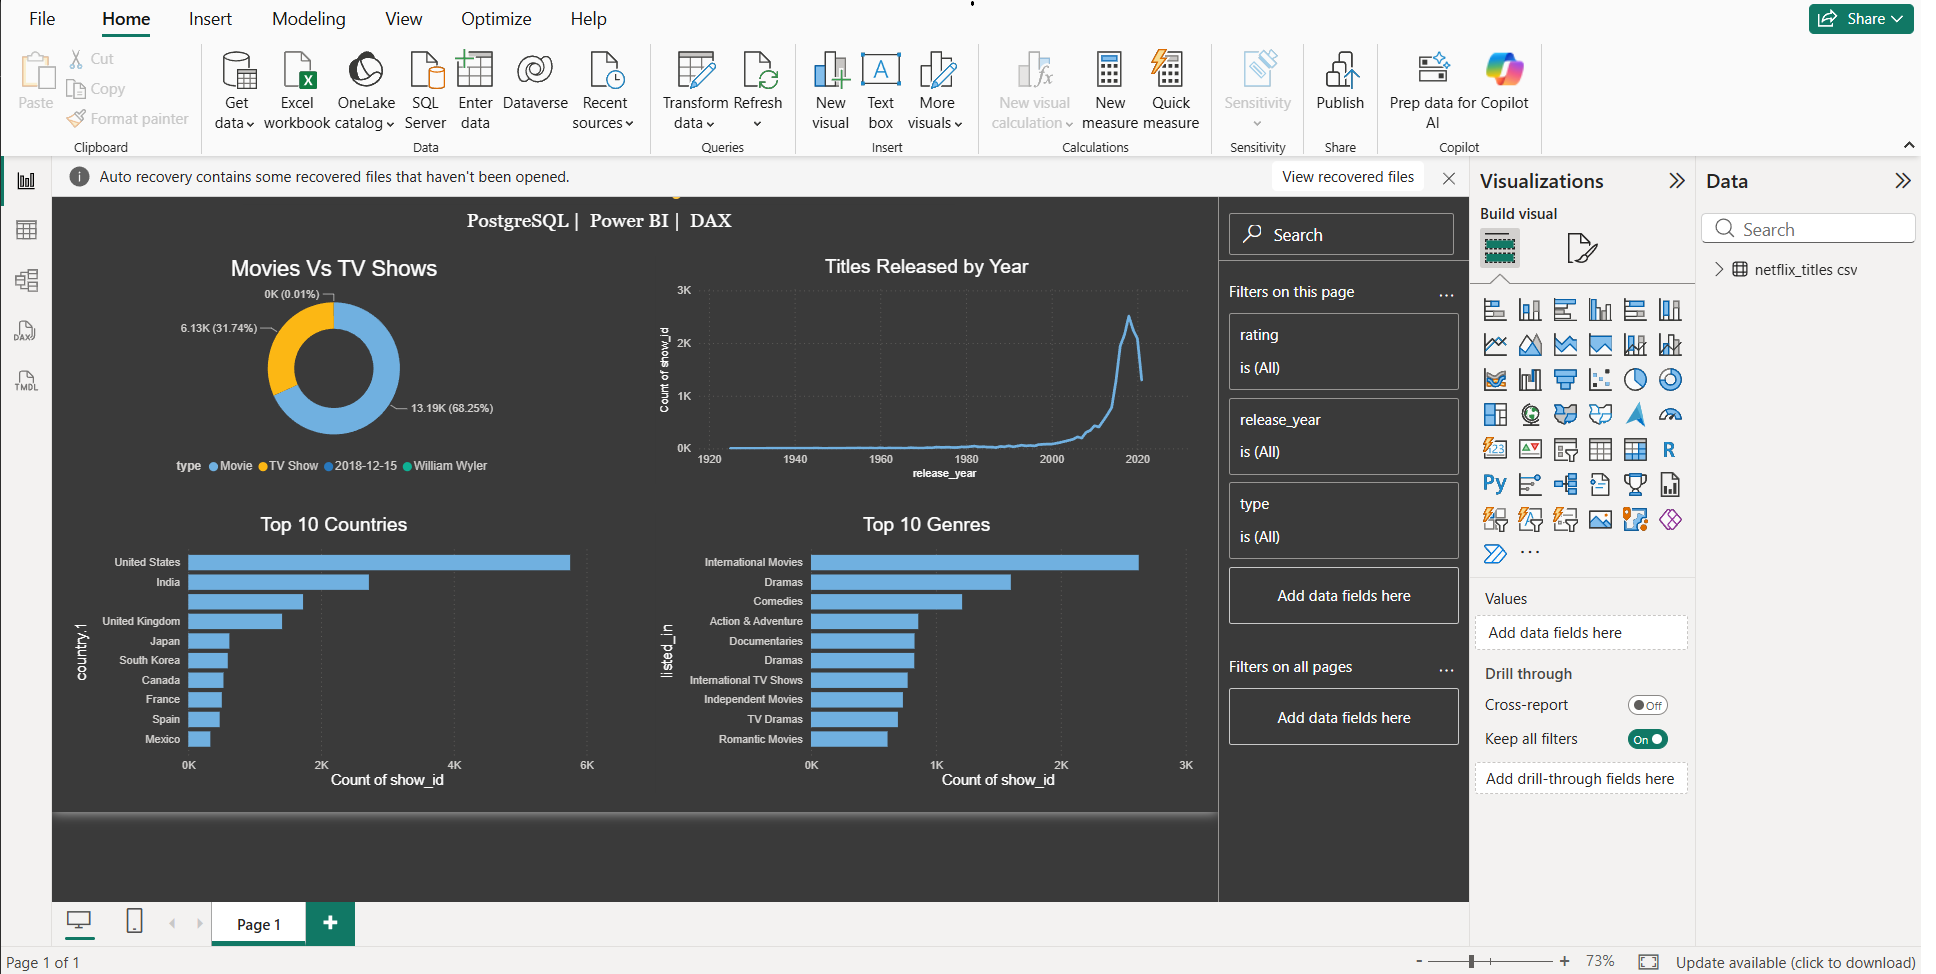

What the dashboard file says about the page in this screenshot:
{"tool":"powerbi","page":{"name":"Page 1","canvas":[1280,720],"ordinal":0},"visuals":[{"type":"donutChart","title":"Movies Vs TV Shows","fields":{"Category":["netflix_titles csv.type"],"Y":["CountNonNull(netflix_titles csv.show_id)"]},"box":[19.5,110,580.8,250],"z":3000},{"type":"lineChart","title":"Titles Released by Year","fields":{"Category":["netflix_titles csv.release_year"],"Y":["CountNonNull(netflix_titles csv.show_id)"]},"box":[662.4,110,595,250],"z":4000},{"type":"clusteredBarChart","title":"Top 10  Countries ","fields":{"Category":["netflix_titles csv.country.1"],"Y":["CountNonNull(netflix_titles csv.show_id)"]},"box":[19.5,392.8,580.8,306.8],"z":5000},{"type":"clusteredBarChart","title":"Top 10 Genres","fields":{"Category":["netflix_titles csv.listed_in"],"Y":["CountNonNull(netflix_titles csv.show_id)"]},"box":[662.4,392.8,595,306.8],"z":6000},{"type":"textbox","box":[0,0,1280.4,54.1],"z":10000},{"type":"textbox","box":[210.1,54.1,781.2,35.5],"z":11000}]}

Visuals, with their boxes on the page's 1280x720 design canvas (x1, y1, x2, y2). These are canvas units, not pixel positions in the 1936x974 screenshot, which may show the page scaled, cropped or inside an application window:
"Movies Vs TV Shows" donutChart: detection(20, 110, 600, 360)
"Titles Released by Year" lineChart: detection(662, 110, 1257, 360)
"Top 10  Countries " clusteredBarChart: detection(20, 393, 600, 700)
"Top 10 Genres" clusteredBarChart: detection(662, 393, 1257, 700)
textbox: detection(0, 0, 1280, 54)
textbox: detection(210, 54, 991, 90)
